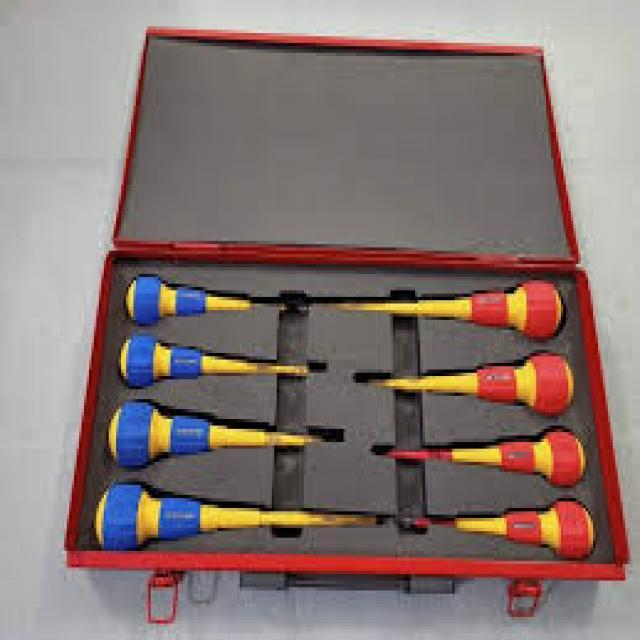screwdriver: (96, 477, 393, 556), (106, 398, 346, 470), (295, 277, 567, 340), (353, 348, 576, 418), (371, 422, 588, 488), (119, 330, 328, 392), (400, 497, 596, 562), (122, 270, 300, 324)
